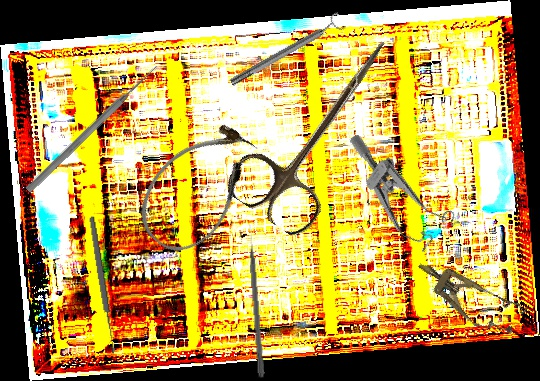Cannula: (123, 109, 273, 266)
Fixation Ring: (226, 11, 347, 91)
Iris Scissors: (221, 13, 419, 242)
Pusher: (24, 62, 161, 195), (247, 223, 266, 379)
Speculum: (320, 132, 470, 261), (407, 246, 529, 345)
Surgical Spoon: (87, 215, 118, 355)
